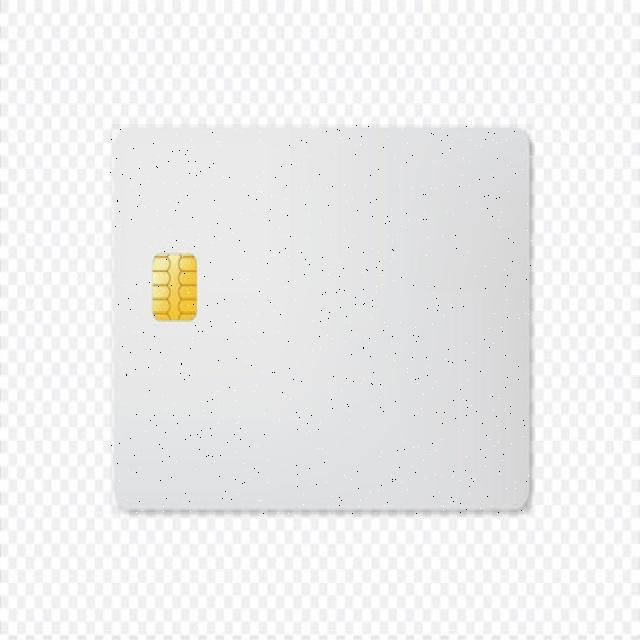payment_card: (110, 122, 533, 515)
